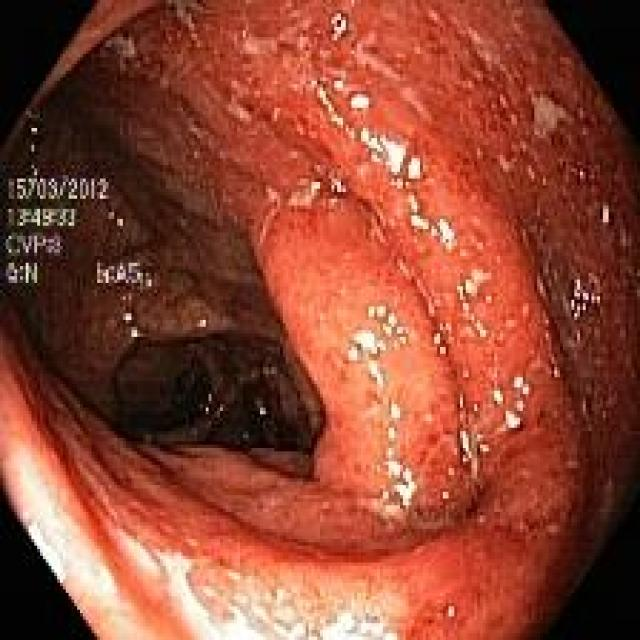ulcerative-colitis-grade-3: (94, 3, 638, 640)
